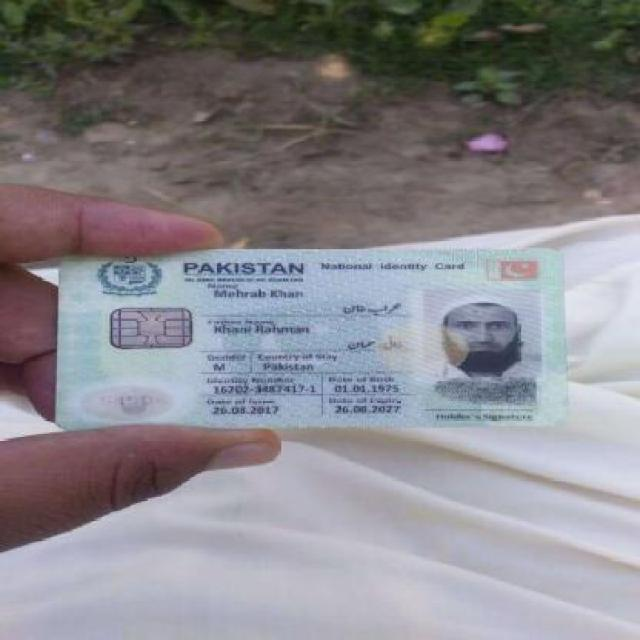Front: (39, 238, 582, 437)
